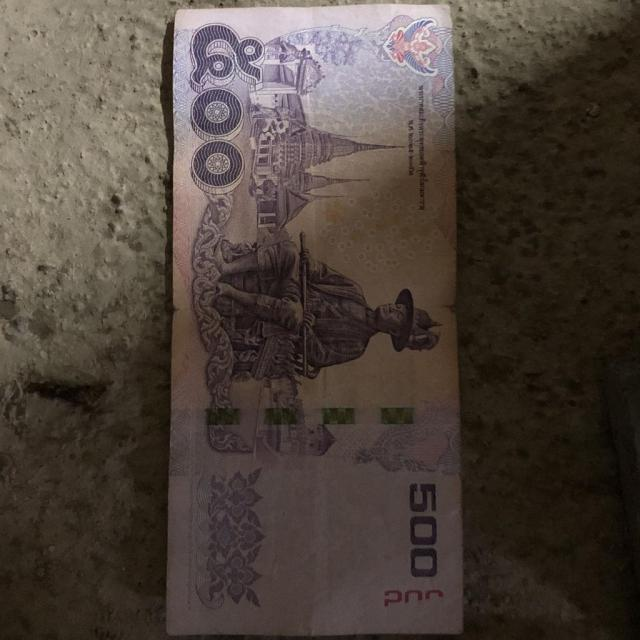THAI500: (166, 5, 462, 636)
